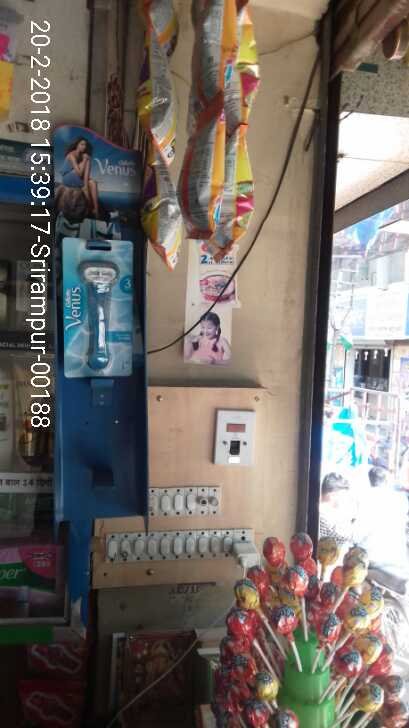venus: (63, 231, 136, 375)
